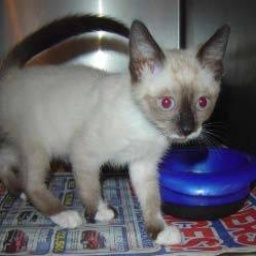cat: (0, 19, 231, 233)
